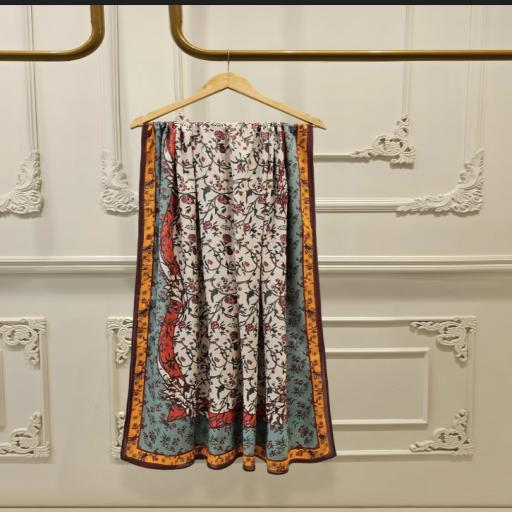Dupatta: (122, 108, 349, 475)
